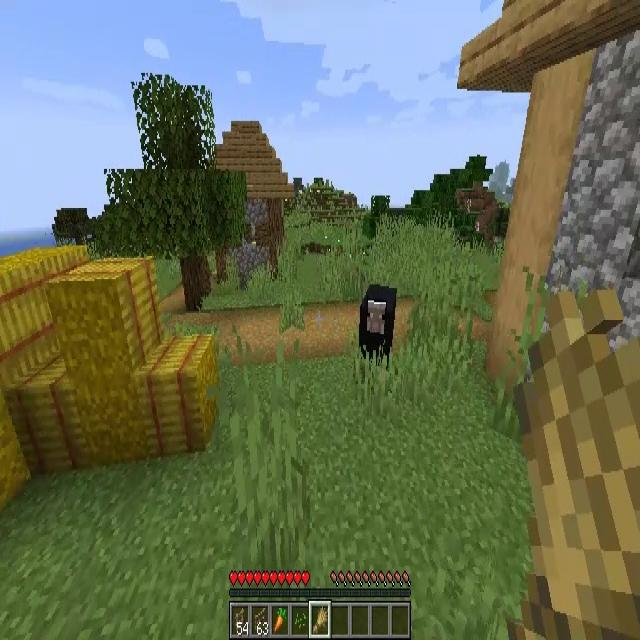sheep: (361, 285, 397, 364)
